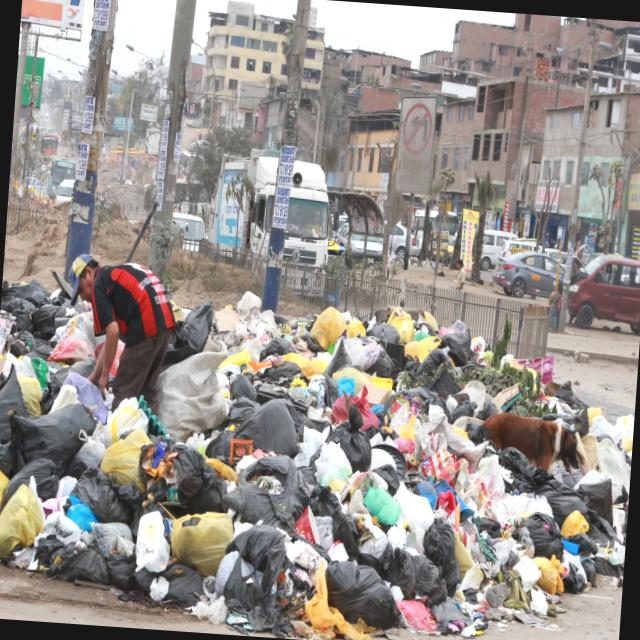garbage: (146, 248, 606, 640)
